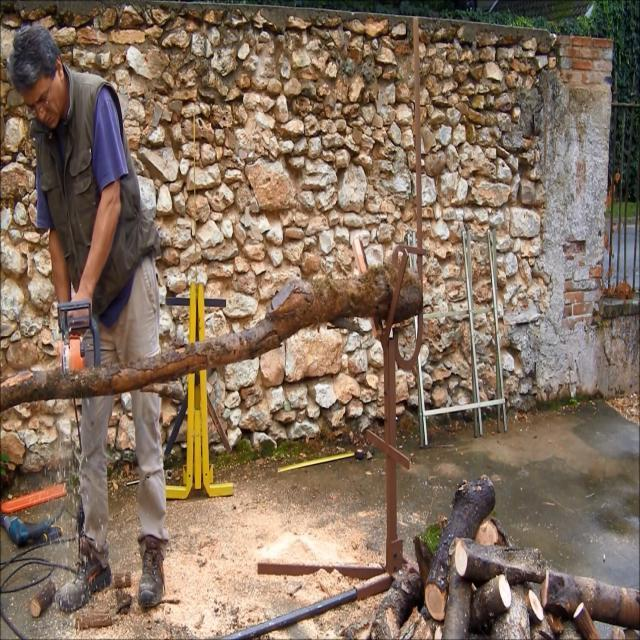Chainsaw: (38, 266, 112, 436)
